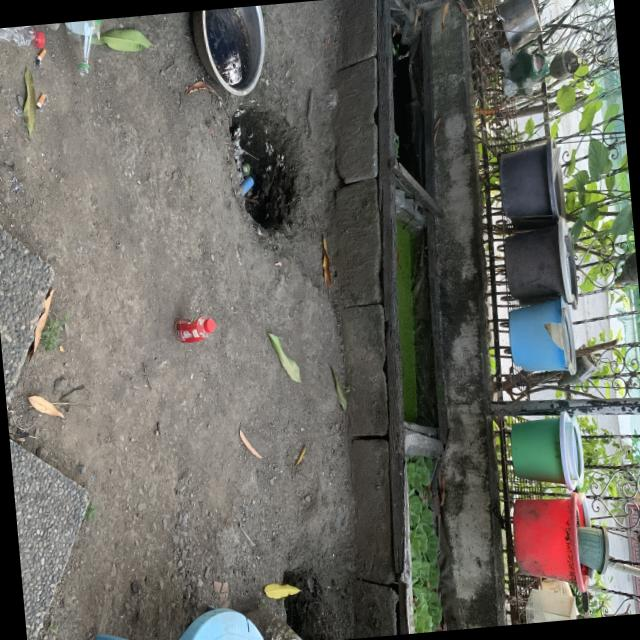Bottle: (174, 313, 215, 342)
